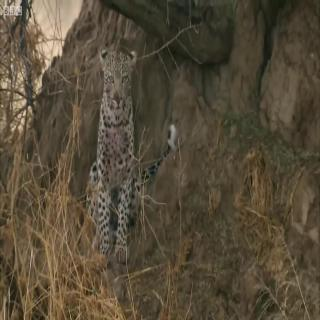Leopard: (83, 29, 170, 282)
